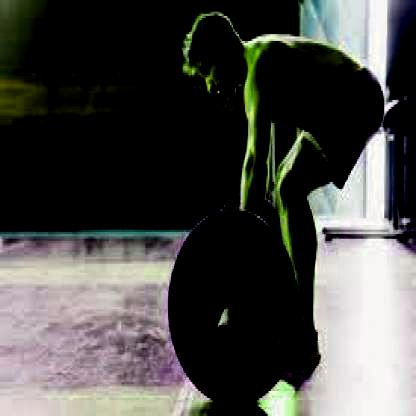Barbell: (212, 316, 237, 355)
